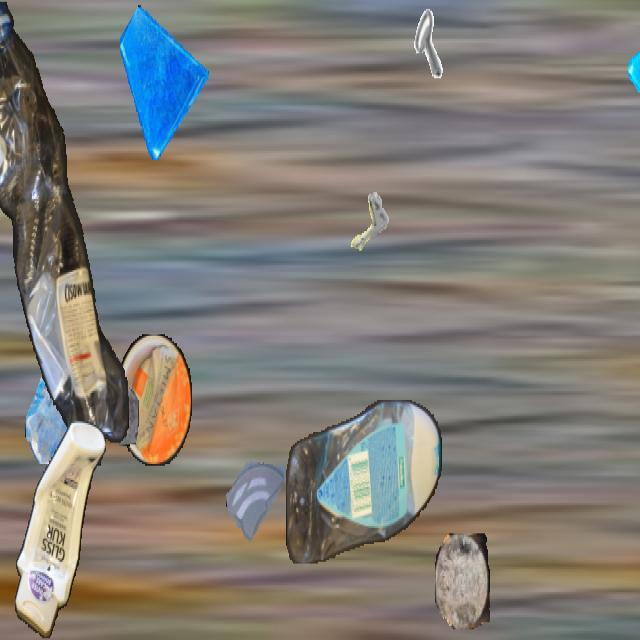glass: (120, 2, 208, 158), (25, 318, 107, 464), (73, 331, 139, 448), (226, 436, 288, 546), (628, 2, 640, 137)
metal: (382, 2, 444, 112), (333, 176, 393, 283)
plastic: (0, 2, 133, 464), (286, 400, 442, 564), (15, 422, 105, 638), (117, 334, 191, 466)
wood: (435, 534, 489, 630)
